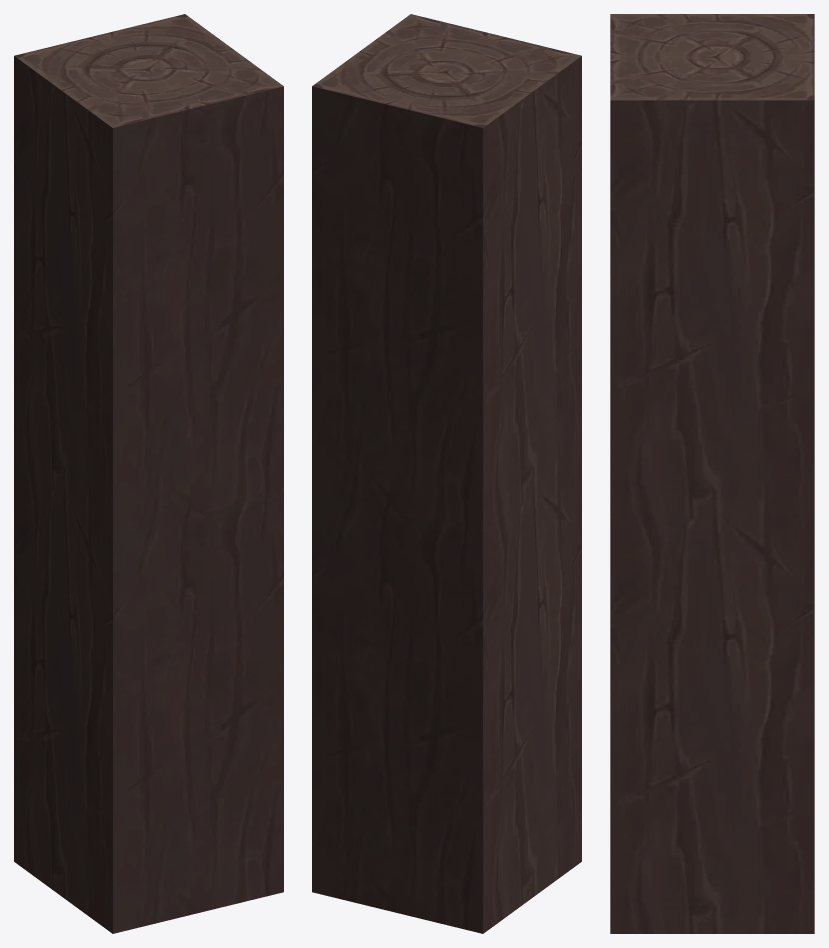
The picture shows the model from 3 angles, left to right: view 1: azimuth 30°, elevation 25°; view 2: azimuth 150°, elevation 25°; view 3: azimuth 270°, elevation 25°; orthographic projection. The views are drawn at different scales.
Bounding box in the file's own units: 0.4444 × 2 × 0.4444.
1 material, 1 textured.
